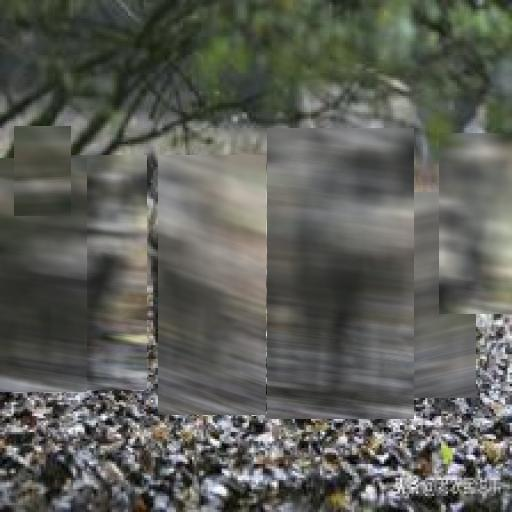Pig: (267, 128, 414, 419), (158, 155, 266, 415), (46, 155, 147, 390), (0, 158, 87, 392), (388, 192, 476, 398), (439, 133, 512, 314), (14, 126, 71, 216)
